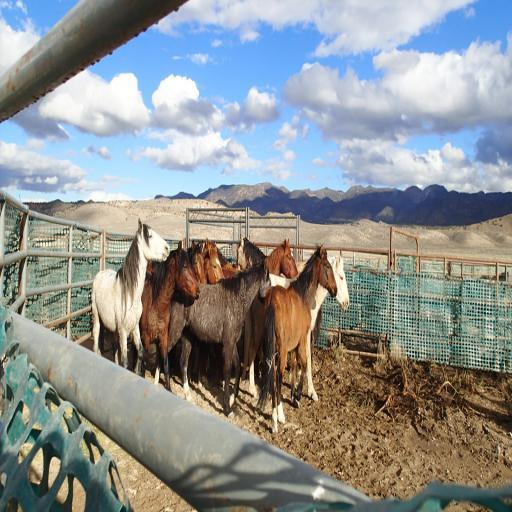Horse: (88, 214, 351, 436)
